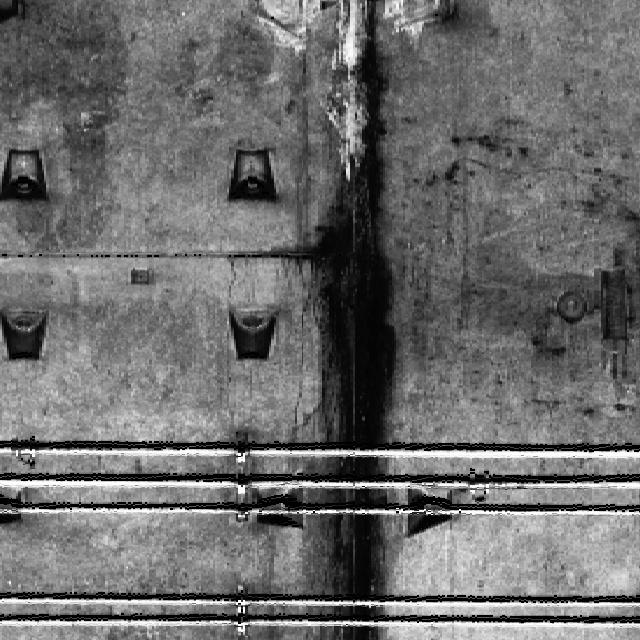leakage: (298, 0, 407, 638)
